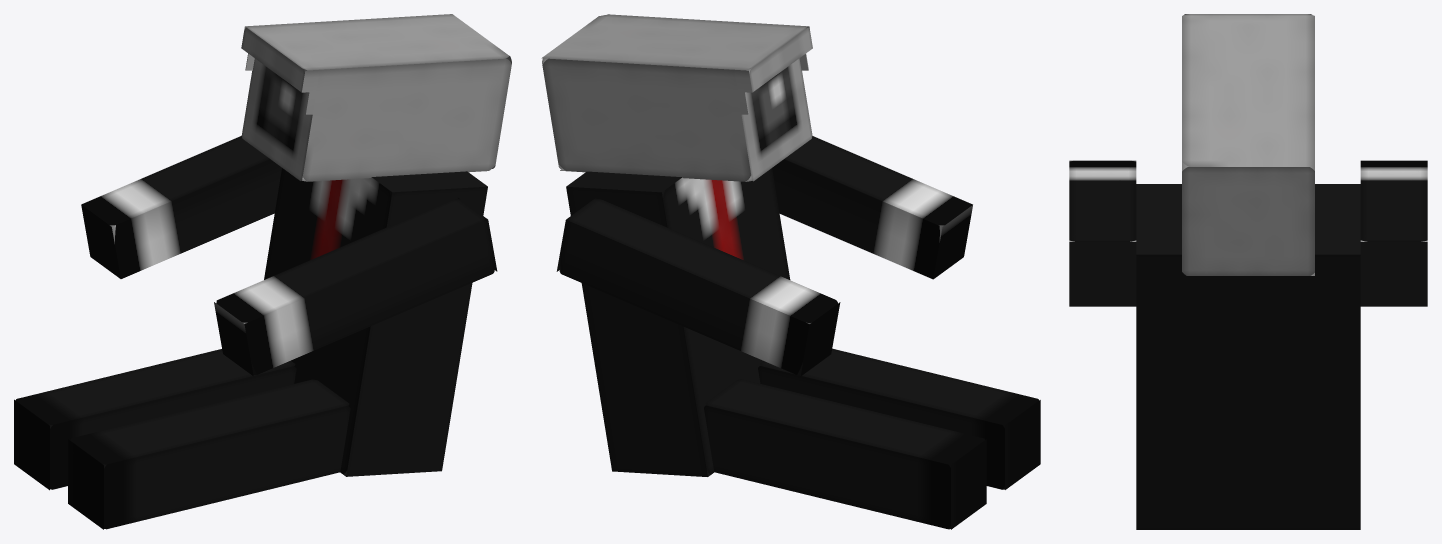
Rendered from player_camera_full.fbx.
3 renders of one model, left to right at view 1: azimuth 30°, elevation 25°; view 2: azimuth 150°, elevation 25°; view 3: azimuth 270°, elevation 25°, orthographic. The views are drawn at different scales.
Visible parts, largest first — view 1: Cube.097; view 2: Cube.097; view 3: Cube.097.
Part boxes in pixels (bbox=[...]): Cube.097: bbox=[14, 14, 511, 529]; Cube.097: bbox=[541, 14, 1040, 529]; Cube.097: bbox=[1069, 14, 1427, 529].
Bounding box in the file's own units: 259 × 241 × 173.
